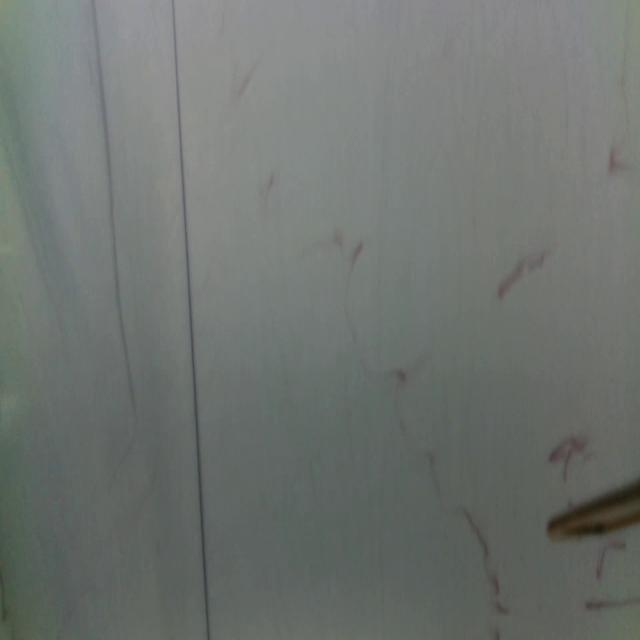crease: (171, 0, 210, 640), (88, 0, 137, 421)
